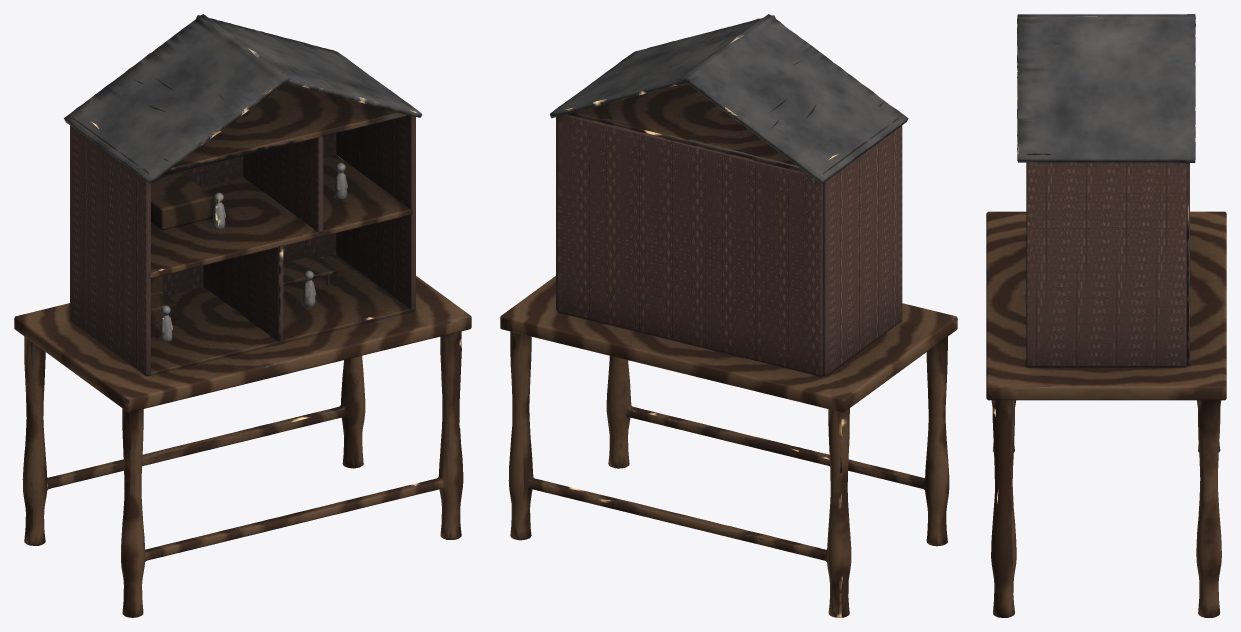
File: miniature_house.glb
3 renders of one model, left to right at view 1: azimuth 30°, elevation 25°; view 2: azimuth 150°, elevation 25°; view 3: azimuth 270°, elevation 25°, orthographic. The views are drawn at different scales.
Parts seen in each view (by area): view 1: Workbench, Side_Walls, Floors, Roof, Furniture, Back_Wall, Tiny_Figures; view 2: Back_Wall, Workbench, Roof, Side_Walls, Floors; view 3: Side_Walls, Workbench, Roof, Back_Wall.
Boxes of the visible parts, x1,y1,x2,y2 form: Workbench: (14, 276, 471, 617); Side_Walls: (70, 115, 415, 375); Floors: (73, 83, 413, 375); Roof: (64, 14, 422, 183); Furniture: (151, 173, 337, 325); Back_Wall: (158, 133, 336, 295); Tiny_Figures: (159, 163, 347, 341); Back_Wall: (557, 114, 823, 376); Workbench: (500, 276, 957, 617); Roof: (550, 14, 908, 183); Side_Walls: (556, 117, 902, 376); Floors: (568, 56, 899, 173); Side_Walls: (1026, 162, 1186, 367); Workbench: (986, 211, 1226, 617); Roof: (1017, 14, 1195, 162); Back_Wall: (1186, 163, 1189, 365).
Size of the model in its own units: 1.3 by 1.78 by 0.7504.
1 material, 1 textured.
